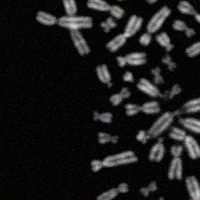chromosome: (149, 98, 200, 140), (59, 0, 89, 55), (106, 14, 141, 54), (139, 5, 171, 47), (135, 75, 182, 100), (89, 149, 139, 171), (36, 11, 93, 28), (169, 128, 200, 158), (87, 0, 124, 19), (176, 171, 200, 200), (124, 100, 162, 116), (169, 145, 185, 181), (95, 183, 128, 200), (177, 0, 200, 24), (95, 63, 115, 88), (148, 136, 165, 162), (183, 174, 200, 200), (177, 115, 200, 134), (109, 86, 131, 105), (115, 53, 147, 66), (172, 20, 195, 36), (157, 34, 175, 52), (97, 131, 118, 145), (140, 180, 157, 197), (186, 37, 200, 57), (100, 17, 117, 33), (161, 52, 176, 70), (94, 109, 112, 124), (151, 65, 164, 84), (135, 129, 150, 144), (122, 70, 134, 83), (145, 0, 167, 4), (146, 197, 167, 200)
